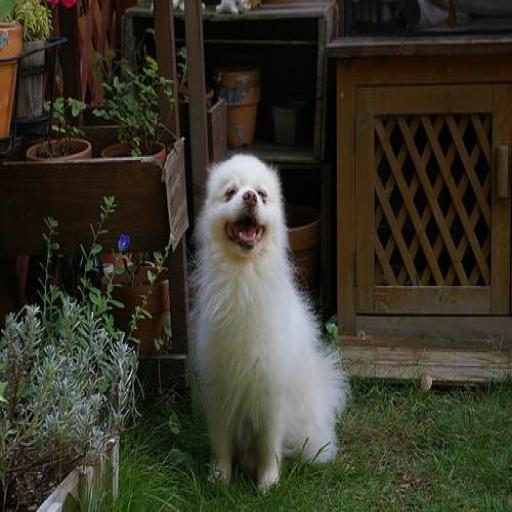dog_face: (204, 155, 284, 262)
